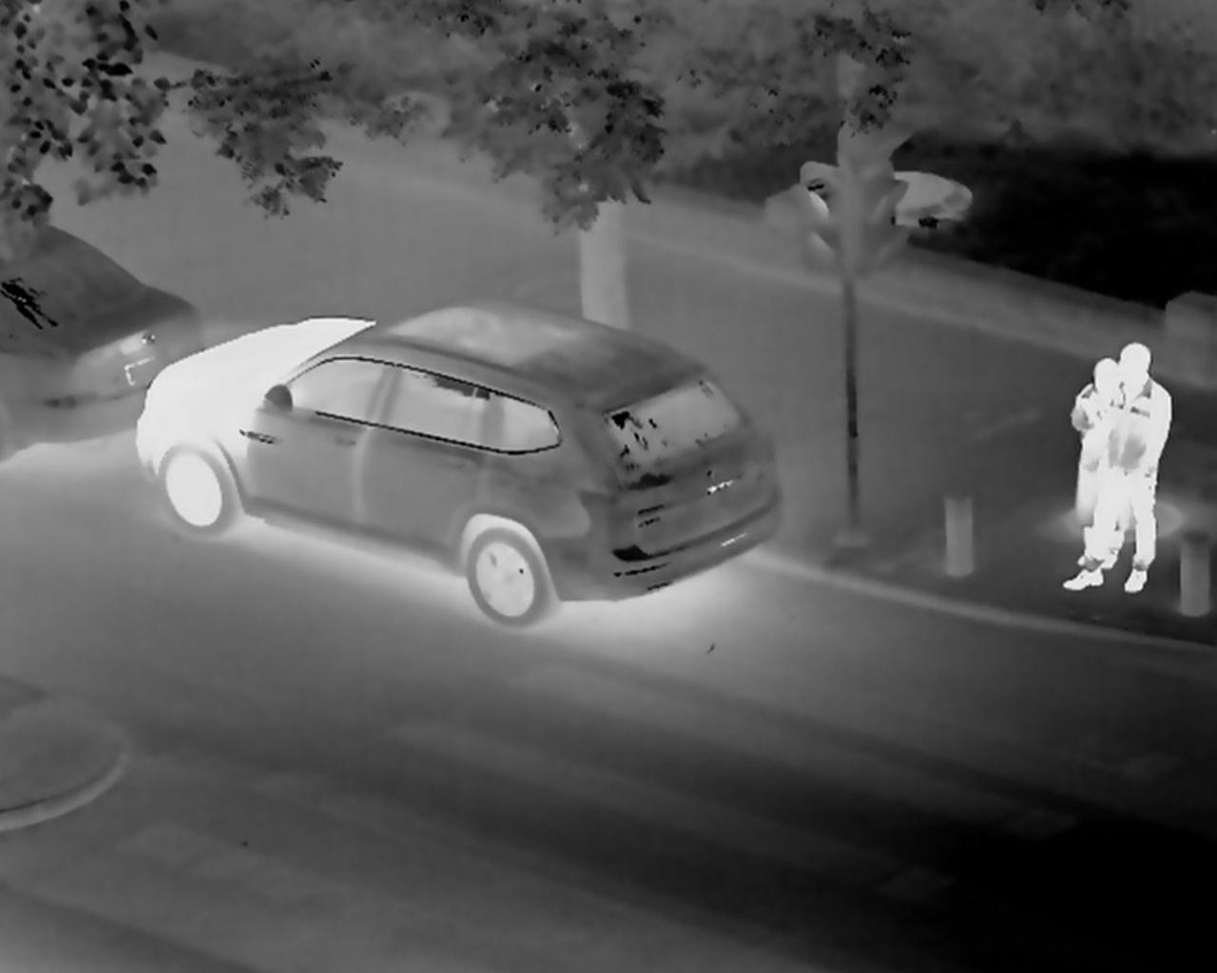person: (1062, 339, 1170, 595), (1067, 356, 1121, 574)
